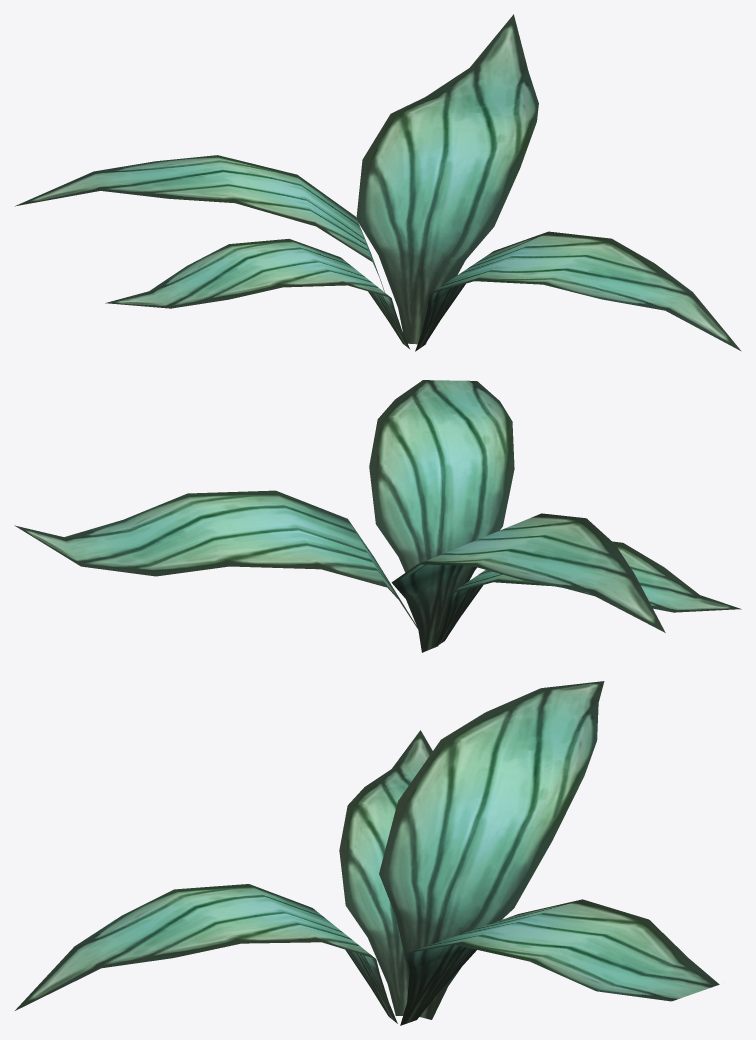
The model's file is bush8.fbx.
3 renders of one model, top to bottom at view 1: azimuth 30°, elevation 25°; view 2: azimuth 150°, elevation 25°; view 3: azimuth 270°, elevation 25°, orthographic. The views are drawn at different scales.
Visible parts, largest first — view 1: polySurface2275; view 2: polySurface2275; view 3: polySurface2275.
Boxes of the visible parts, left/top/right/bottom form: polySurface2275: left=15, top=14, right=741, bottom=351; polySurface2275: left=14, top=380, right=741, bottom=652; polySurface2275: left=15, top=681, right=719, bottom=1025.
Size of the model in its own units: 0.8855 by 0.2613 by 0.8848.
